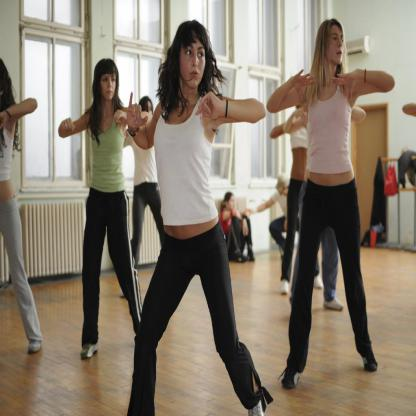face: (182, 31, 207, 88), (326, 26, 345, 65), (101, 73, 117, 100), (142, 101, 154, 121), (228, 195, 236, 211), (277, 182, 283, 196)
